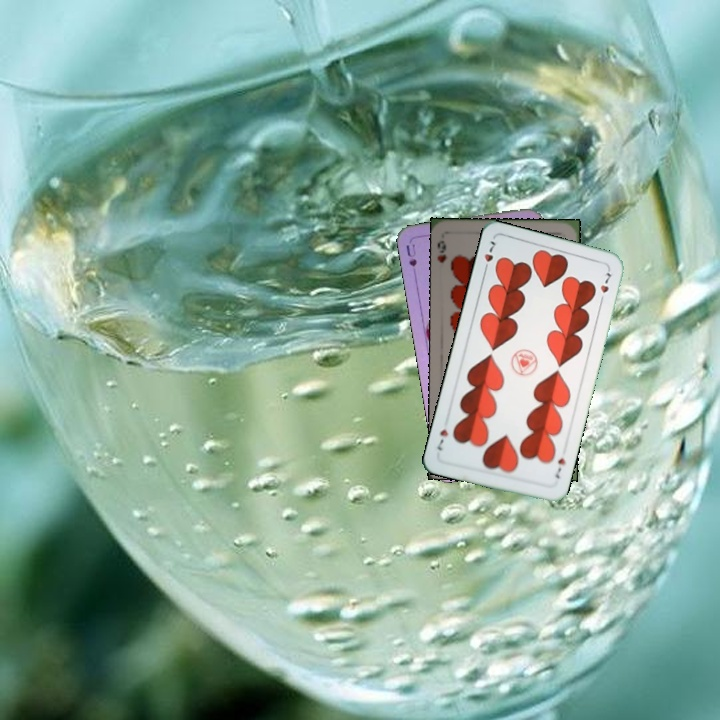H7: (479, 237, 498, 276), (551, 454, 568, 481)
H9: (434, 237, 450, 265)
SU: (402, 240, 419, 269)
